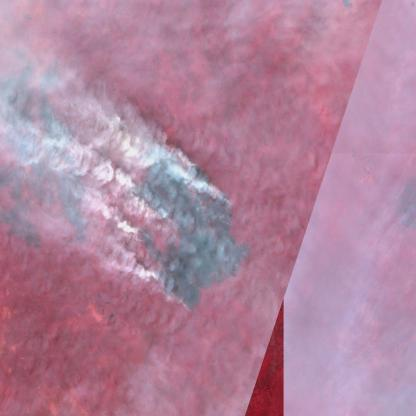fire: (126, 130, 255, 316)
